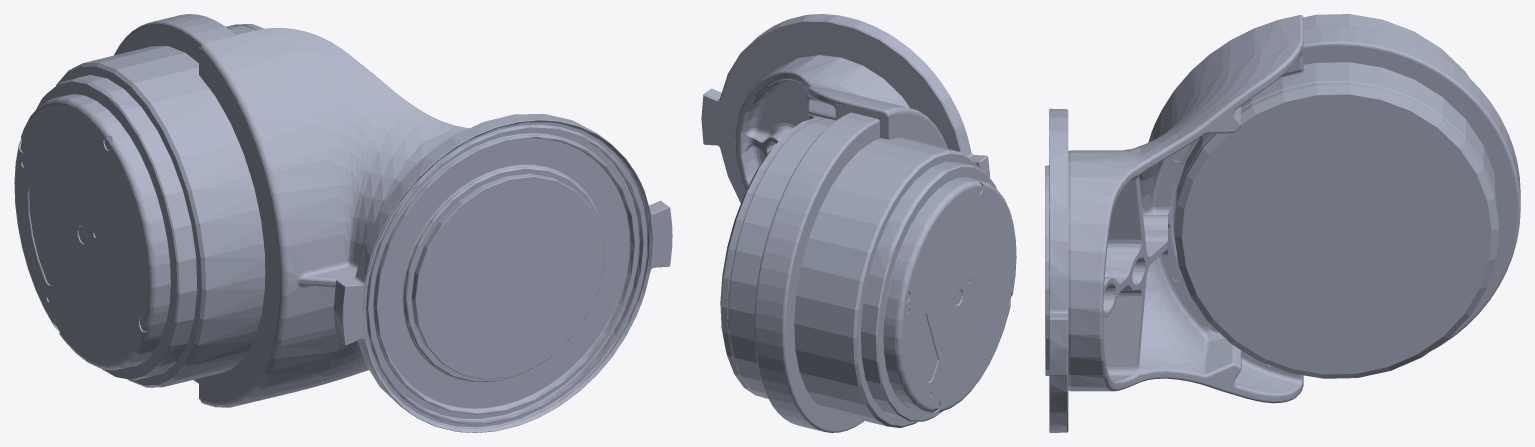
The model's file is left_hip_yaw_link.obj.
The picture shows the model from 3 angles, left to right: view 1: azimuth 30°, elevation 25°; view 2: azimuth 150°, elevation 25°; view 3: azimuth 270°, elevation 25°; orthographic projection. The views are drawn at different scales.
Parts seen in each view (by area): view 1: left_hip_yaw_link-mesh; view 2: left_hip_yaw_link-mesh; view 3: left_hip_yaw_link-mesh.
Boxes of the visible parts, box(x1,y1,x2,y2) form: left_hip_yaw_link-mesh: box(14, 14, 672, 432); left_hip_yaw_link-mesh: box(701, 14, 1016, 432); left_hip_yaw_link-mesh: box(1045, 14, 1520, 432).
Size of the model in its own units: 0.1634 by 0.1277 by 0.1577.
